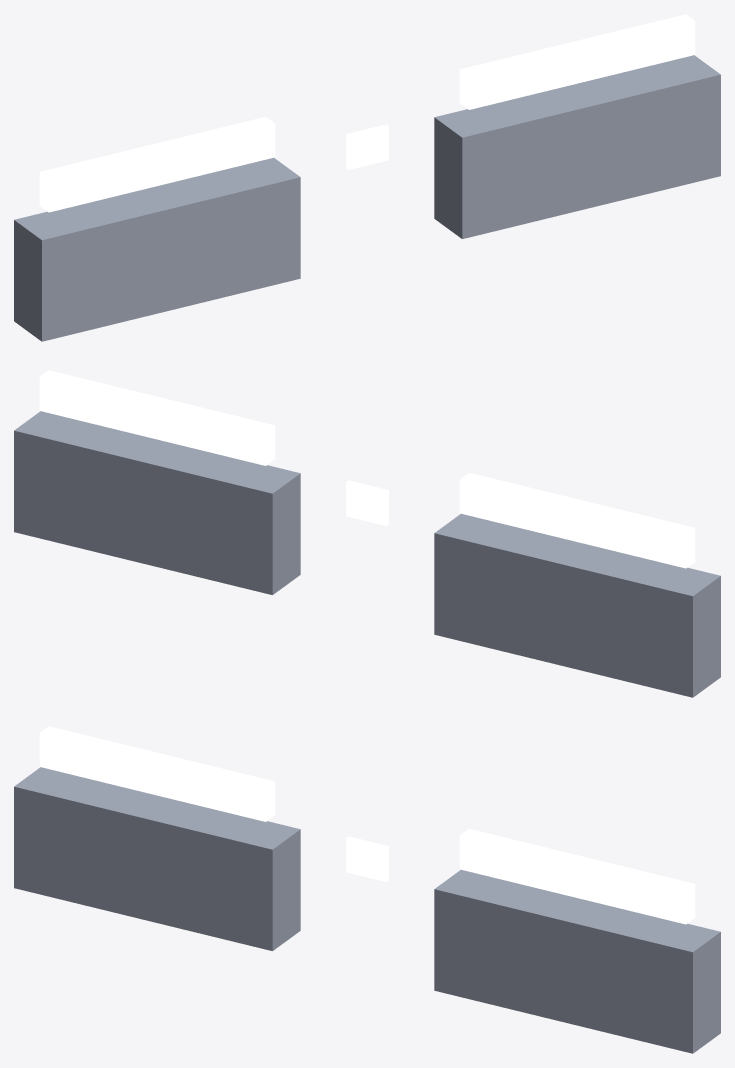
File: boomerang.glb
3 views of the same model, one above another, from view 1: azimuth 30°, elevation 25°; view 2: azimuth 150°, elevation 25°; view 3: azimuth 330°, elevation 25° (orthographic).
Visible parts, largest first — view 1: arm_r, arm_l, edge_l, edge_r, decal_b1; view 2: arm_r, arm_l, edge_l, edge_r, decal_b1; view 3: arm_l, arm_r, edge_l, edge_r, decal_b1.
Part boxes in pixels (x1,y1,x2,y2): arm_r: [434, 55, 720, 238]; arm_l: [14, 157, 300, 341]; edge_l: [39, 116, 275, 212]; edge_r: [459, 14, 695, 109]; decal_b1: [346, 124, 388, 169]; arm_r: [14, 411, 300, 594]; arm_l: [434, 513, 720, 697]; edge_l: [459, 472, 695, 568]; edge_r: [39, 370, 275, 465]; decal_b1: [346, 480, 388, 525]; arm_l: [14, 767, 300, 950]; arm_r: [434, 869, 720, 1053]; edge_l: [39, 726, 275, 821]; edge_r: [459, 828, 695, 924]; decal_b1: [346, 836, 388, 881].
Bounding box in the file's own units: 0.42 × 0.09 × 0.03.
